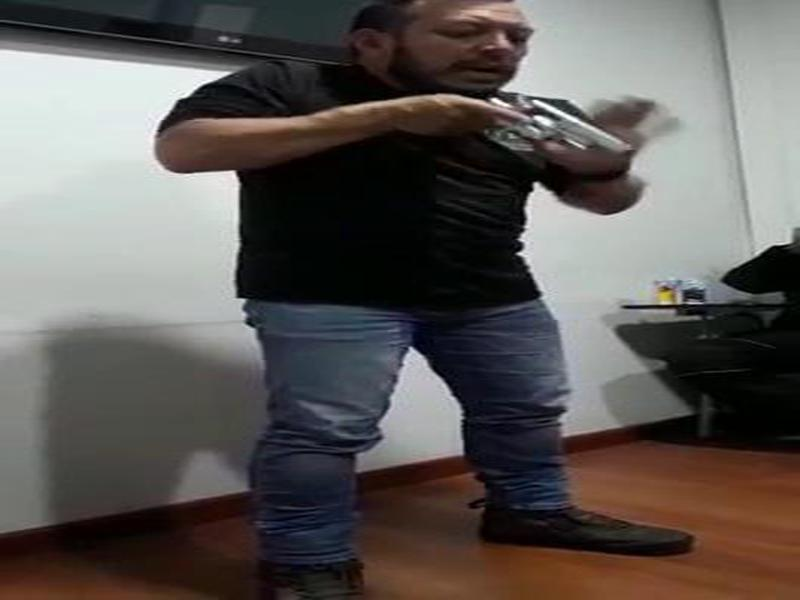Revolver: (473, 77, 657, 195)
